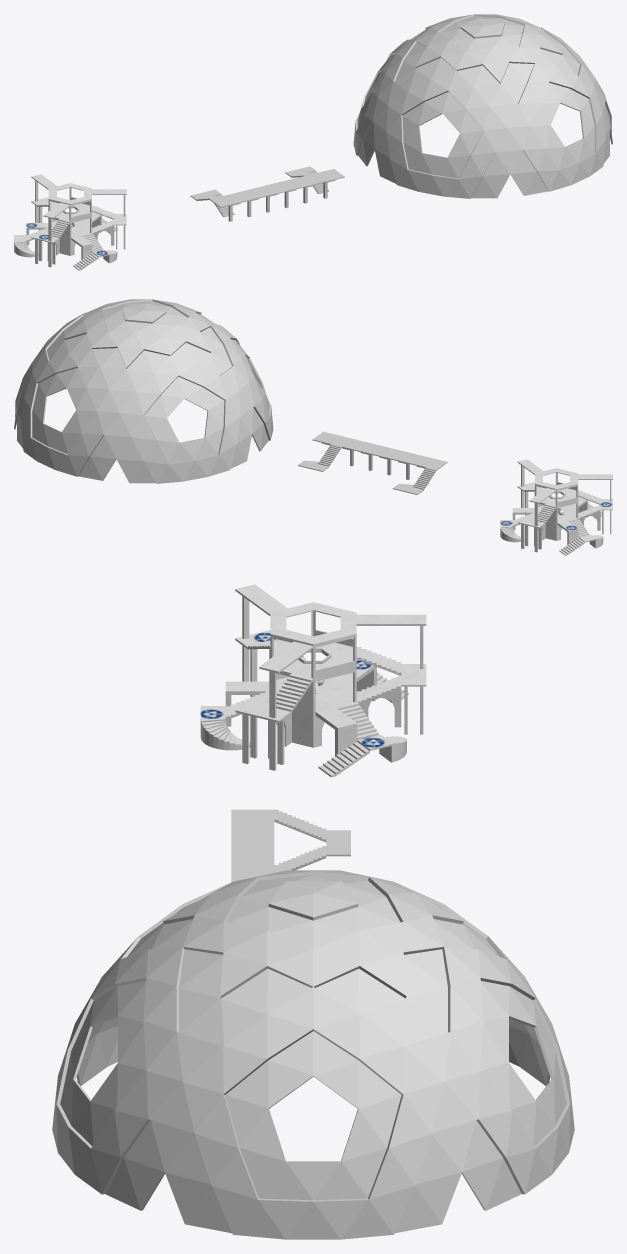
Rendered from buildings.glb.
3 views of the same model, one above another, from view 1: azimuth 30°, elevation 25°; view 2: azimuth 150°, elevation 25°; view 3: azimuth 270°, elevation 25° (orthographic). The views are drawn at different scales.
Parts seen in each view (by area): view 1: GeoSphere07, Object03, 8 sm tr after zb, UTypeStair001; view 2: GeoSphere07, Object03, 8 sm tr after zb, UTypeStair001; view 3: GeoSphere07, Object03, 8 sm tr after zb, UTypeStair001.
Boxes of the visible parts, x1,y1,x2,y2 form: GeoSphere07: (353,14,611,198); Object03: (357,16,612,198); 8 sm tr after zb: (14,174,126,270); UTypeStair001: (190,166,344,221); GeoSphere07: (15,299,273,483); Object03: (14,301,269,483); 8 sm tr after zb: (500,459,612,555); UTypeStair001: (298,431,447,494); GeoSphere07: (52,870,574,1239); Object03: (60,875,566,1233); 8 sm tr after zb: (200,584,426,777); UTypeStair001: (231,809,350,882).
Bounding box in the file's own units: 140 × 27.46 × 54.83.
Materials: 2 (1 with a texture image).
